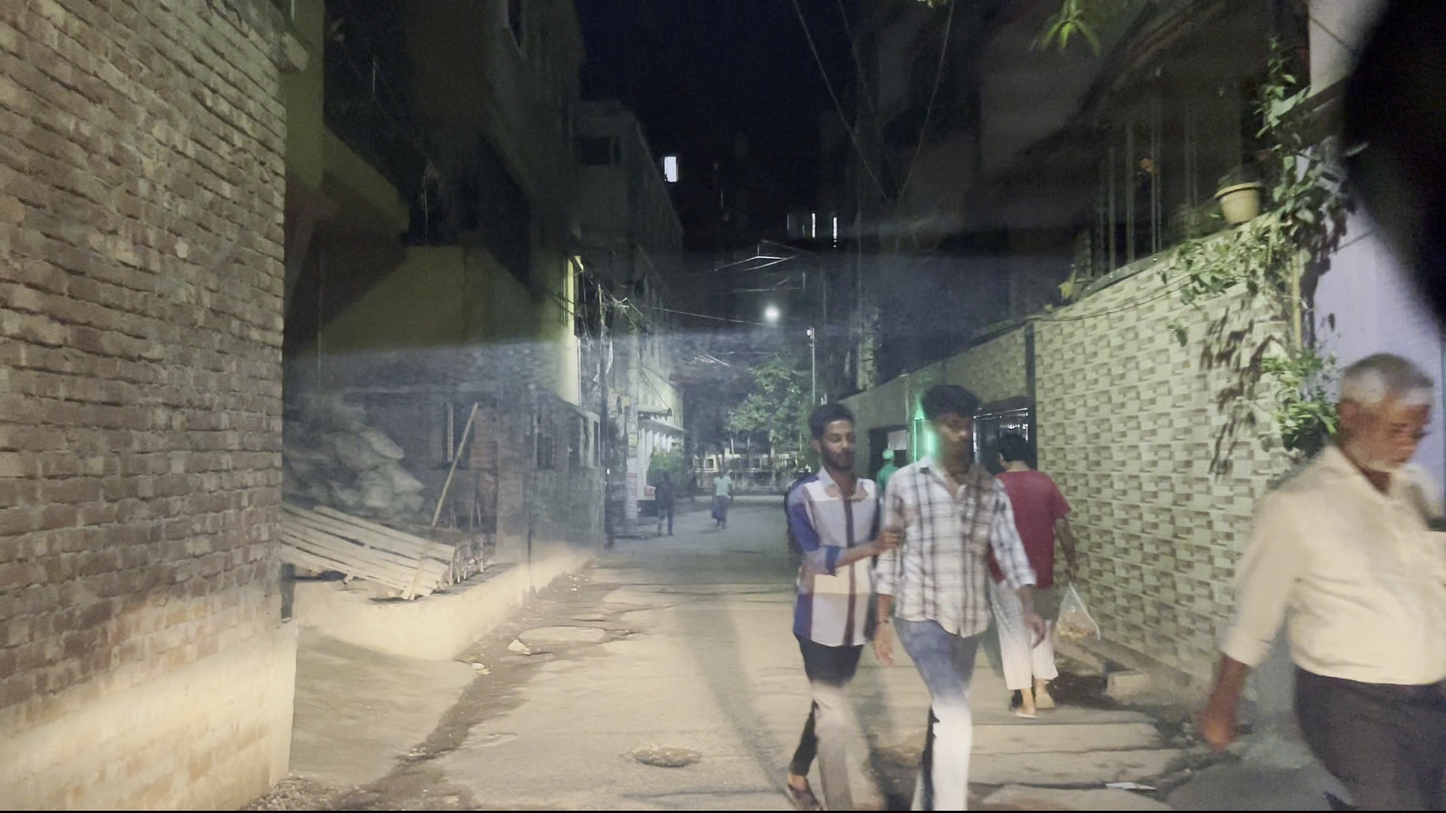person: (1105, 11, 1435, 808), (1219, 321, 1446, 808), (831, 386, 1034, 813), (786, 388, 884, 804), (990, 422, 1092, 739), (697, 458, 746, 535), (650, 458, 673, 537)
